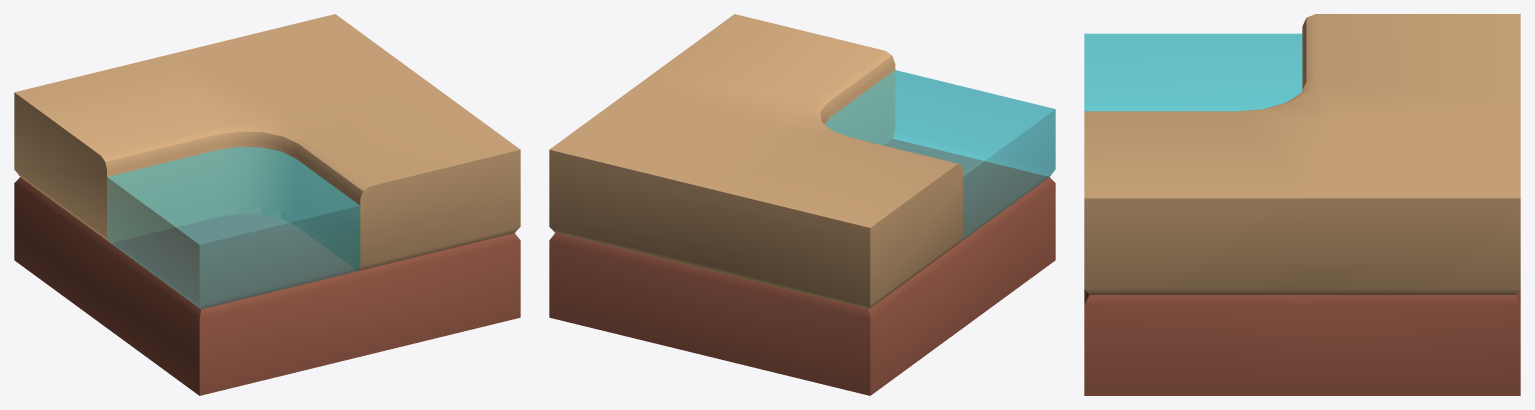
File: square_sand_waterInnerCorner.fbx
3 renders of one model, left to right at view 1: azimuth 30°, elevation 25°; view 2: azimuth 150°, elevation 25°; view 3: azimuth 270°, elevation 25°, orthographic. The views are drawn at different scales.
Visible parts, largest first — view 1: square_sand_waterInnerCorner; view 2: square_sand_waterInnerCorner; view 3: square_sand_waterInnerCorner.
Boxes of the visible parts, box(x1,y1,x2,y2) form: square_sand_waterInnerCorner: box(14, 14, 520, 395); square_sand_waterInnerCorner: box(549, 14, 1055, 395); square_sand_waterInnerCorner: box(1084, 14, 1520, 395).
Bounding box in the file's own units: 2 × 1 × 2.
